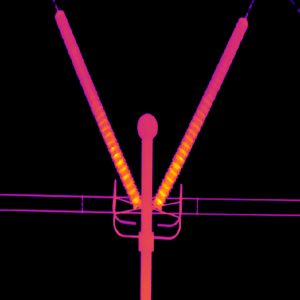insulator: (154, 15, 249, 208), (56, 8, 141, 207)
